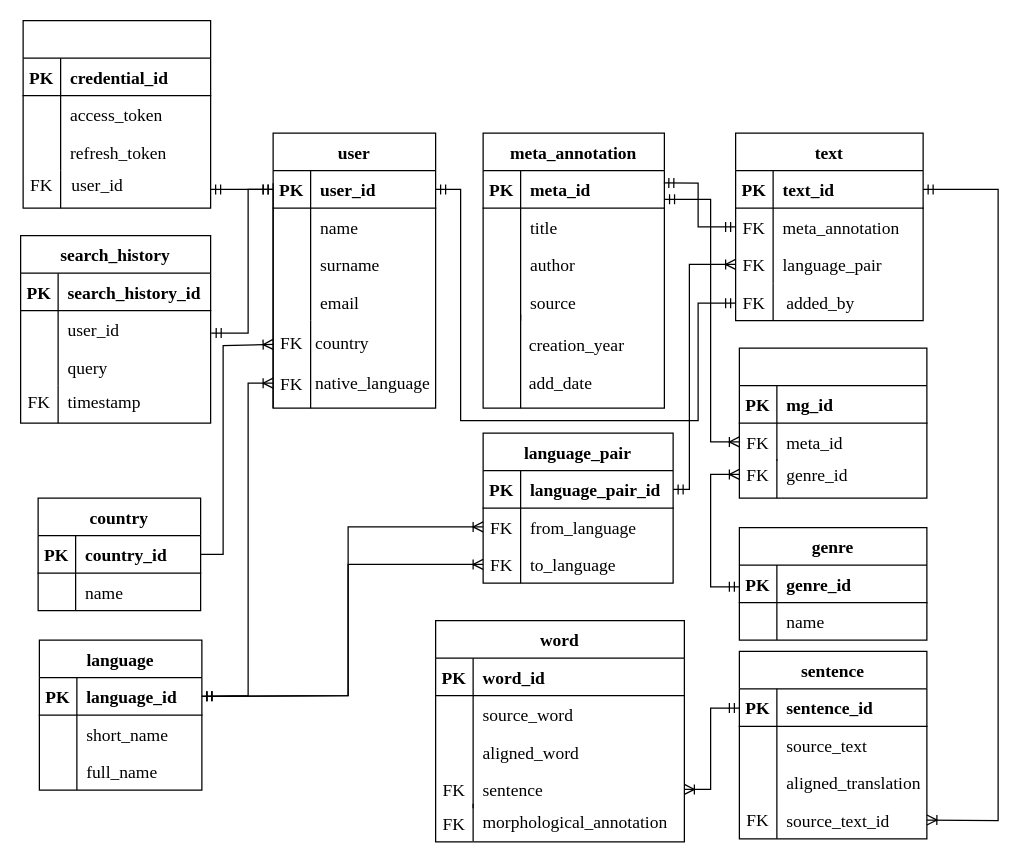
Some shapes in this 1019 by 863 pixel diagram are drawn without their labels. The shapes that lost their labels are listed below. From the top down, each one's box as (x1, y1, x2, y2) in pixels, then its label:
(22, 19, 211, 208): credentials
(738, 347, 927, 498): meta_genre
